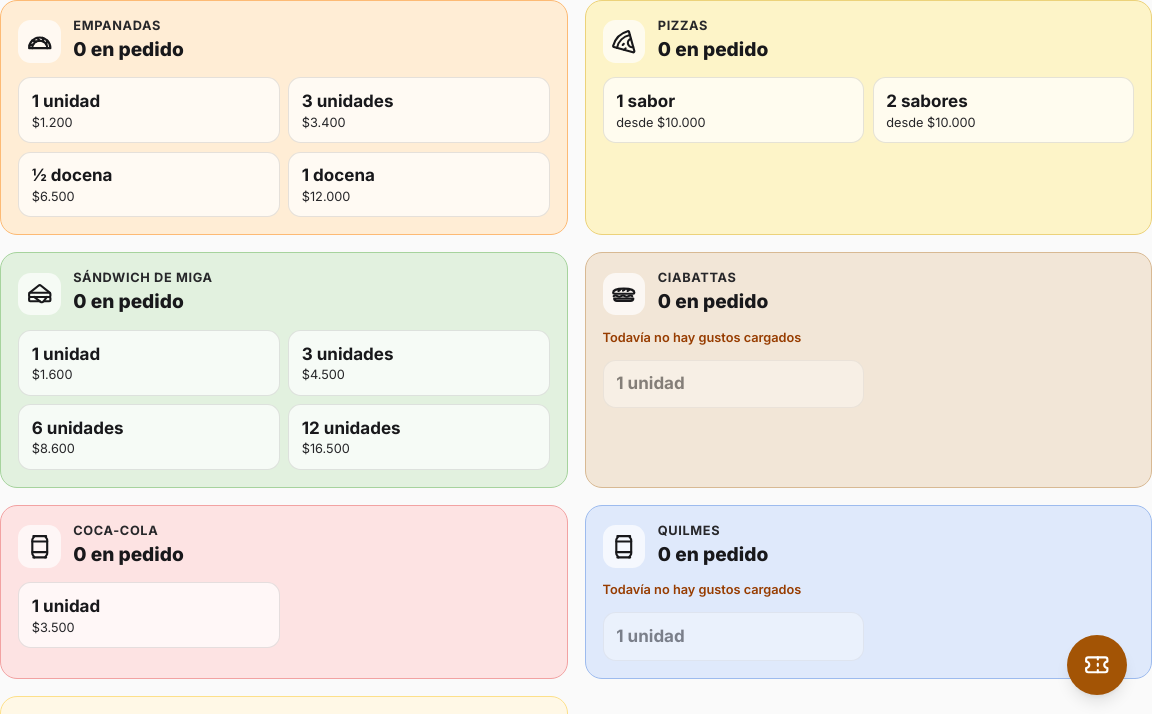
tablero de ventas (US-5 CA-1) › carga los gustos y muestra una subdivisión por grupo y el pedido actual
Expected: the element "Empanadas" is shown, [0, 0, 568, 236]
Click the button named "Ver pedido".
click(1097, 665)  # box [1067, 635, 1126, 694]
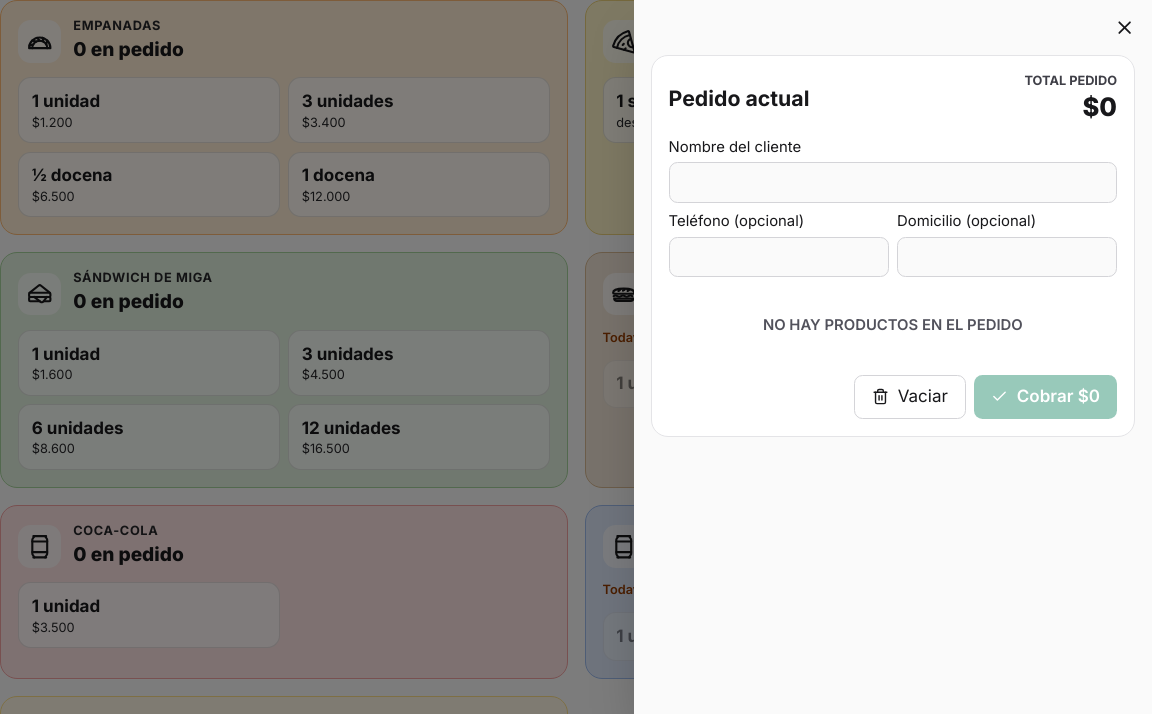
Expected: the element "Pedido actual" is shown, [651, 55, 1135, 437]
